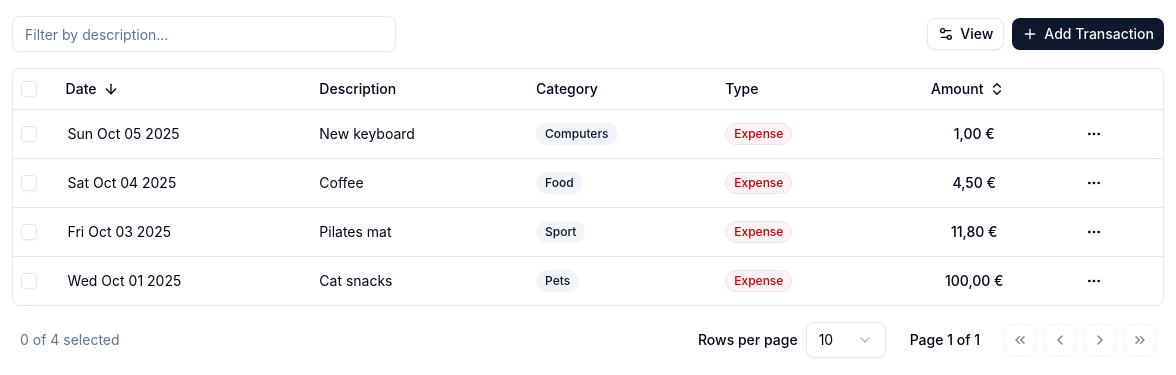
Test case: TransactionsTable › filters rows based on description input
The width and height of the screenshot is (1176, 375).
Type "coffee" into the field with placeholder "Filter by description..." at (204, 34), box 12,16 -> 396,52
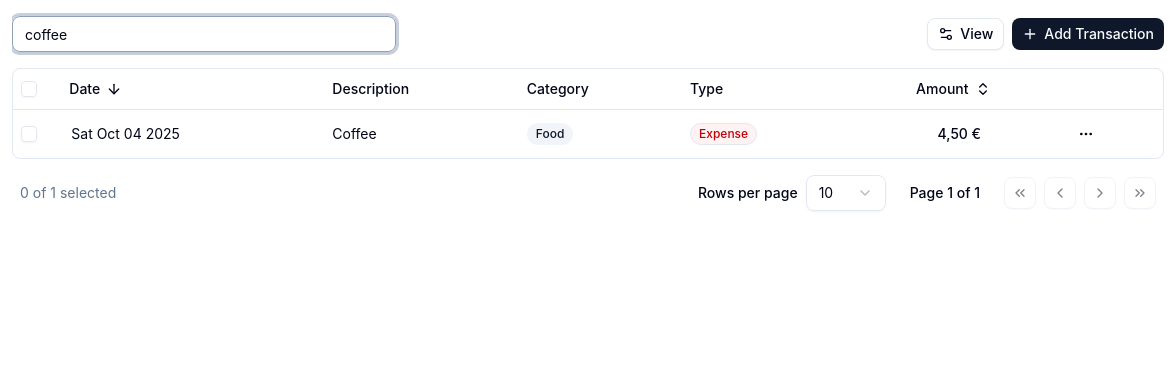
Check: the text "Coffee" is shown, box 324,109 -> 519,158
Check: the text "Cat snacks" is gone
